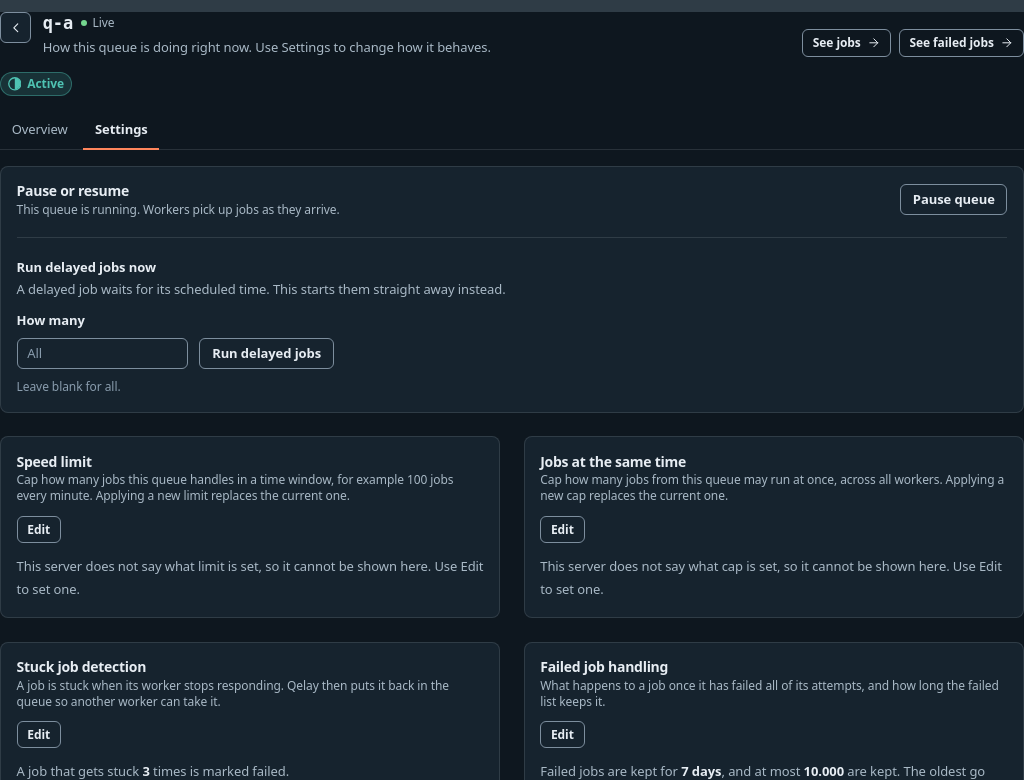
Test: QueueDetailPro mutation safety › moving to another queue drops the old queue's late answer and its pending success
Click the button "Pause queue": (954, 200) [900, 184, 1008, 216]
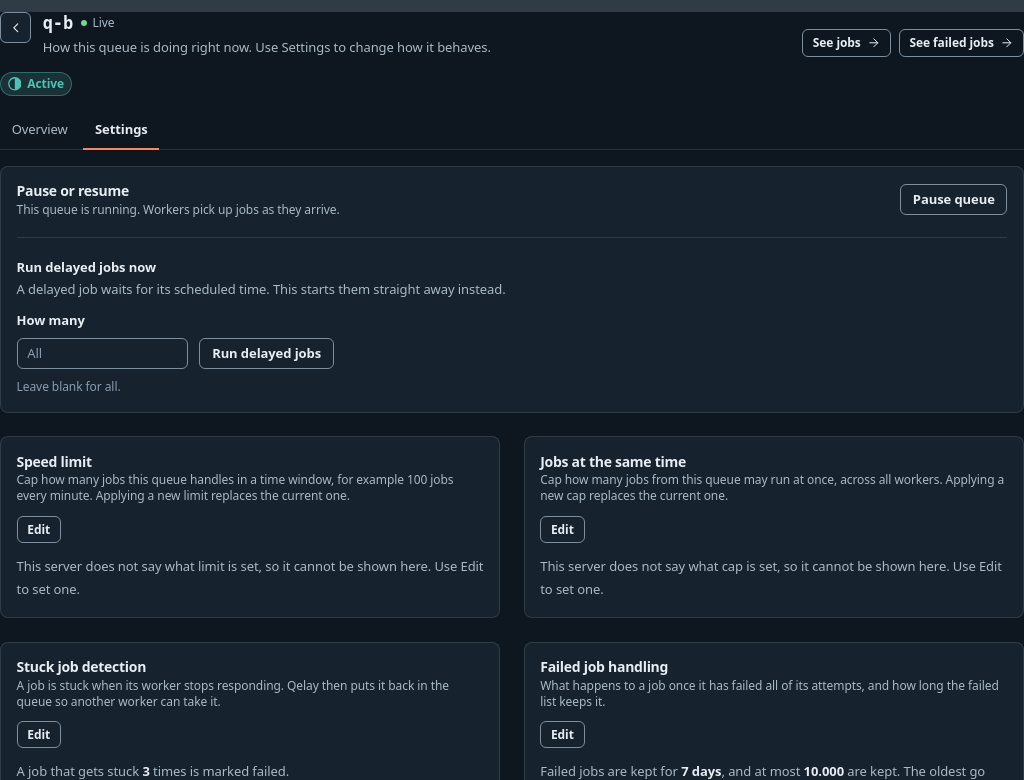
Now the text "q-b" is shown, box [43, 13, 73, 33]
